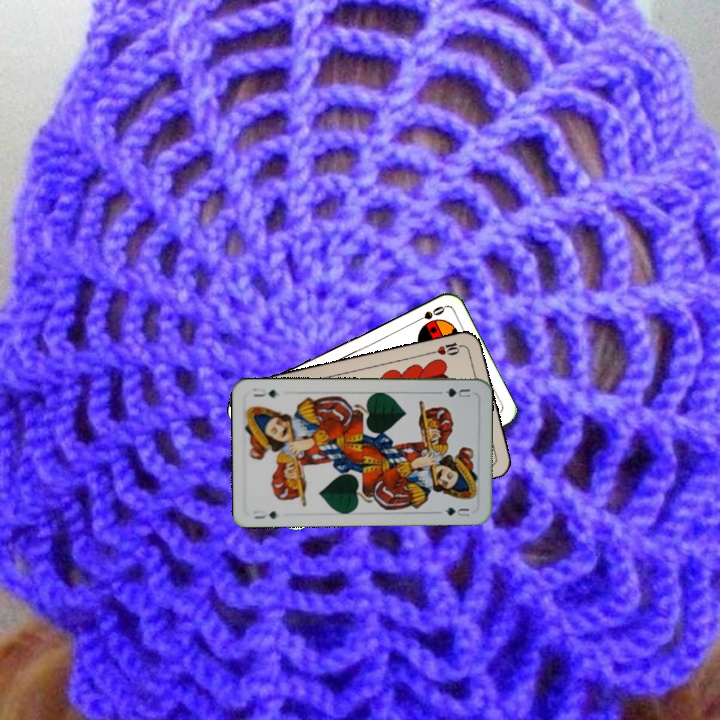GU: (435, 384, 474, 400), (250, 506, 280, 521)
H10: (426, 338, 467, 358)
SO: (409, 302, 448, 326)
